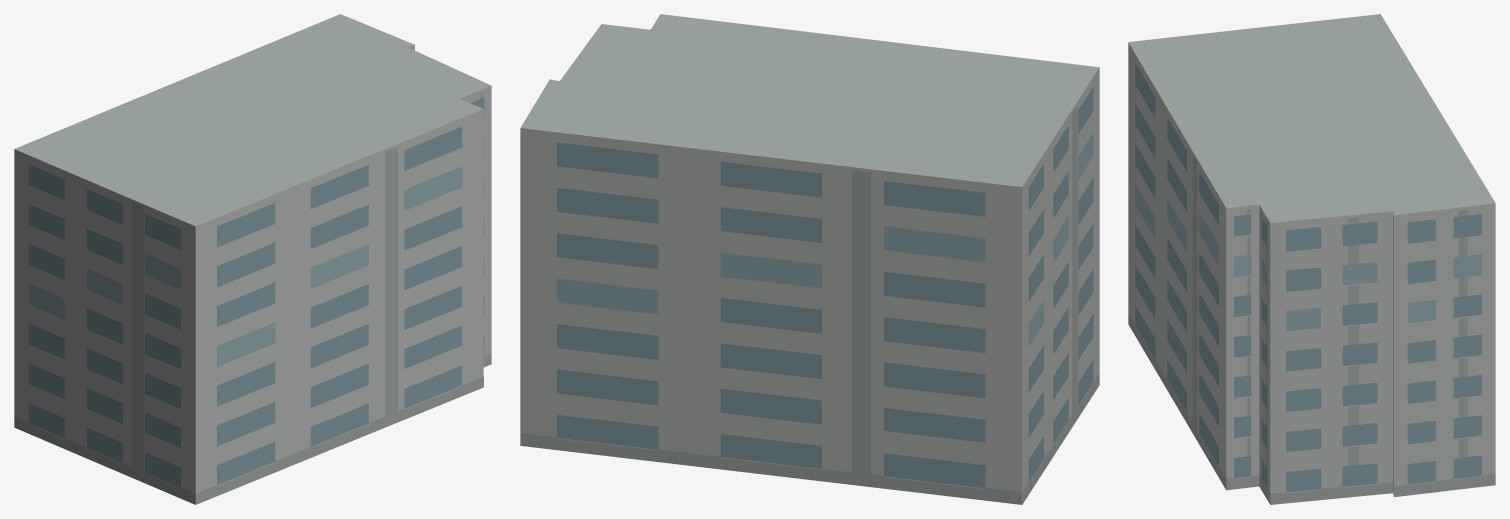
Rendered from survey-upis-32651066.glb.
3 renders of one model, left to right at view 1: azimuth 30°, elevation 25°; view 2: azimuth 150°, elevation 25°; view 3: azimuth 270°, elevation 25°, orthographic. The views are drawn at different scales.
Visible parts, largest first — view 1: survey-upis-32651066.tmp; view 2: survey-upis-32651066.tmp; view 3: survey-upis-32651066.tmp.
Boxes of the visible parts, x1=… form: survey-upis-32651066.tmp: x1=14, y1=14, x2=491, y2=504; survey-upis-32651066.tmp: x1=520, y1=14, x2=1099, y2=504; survey-upis-32651066.tmp: x1=1128, y1=14, x2=1495, y2=504.
Size of the model in its own units: 33.94 by 21.35 by 25.23.
